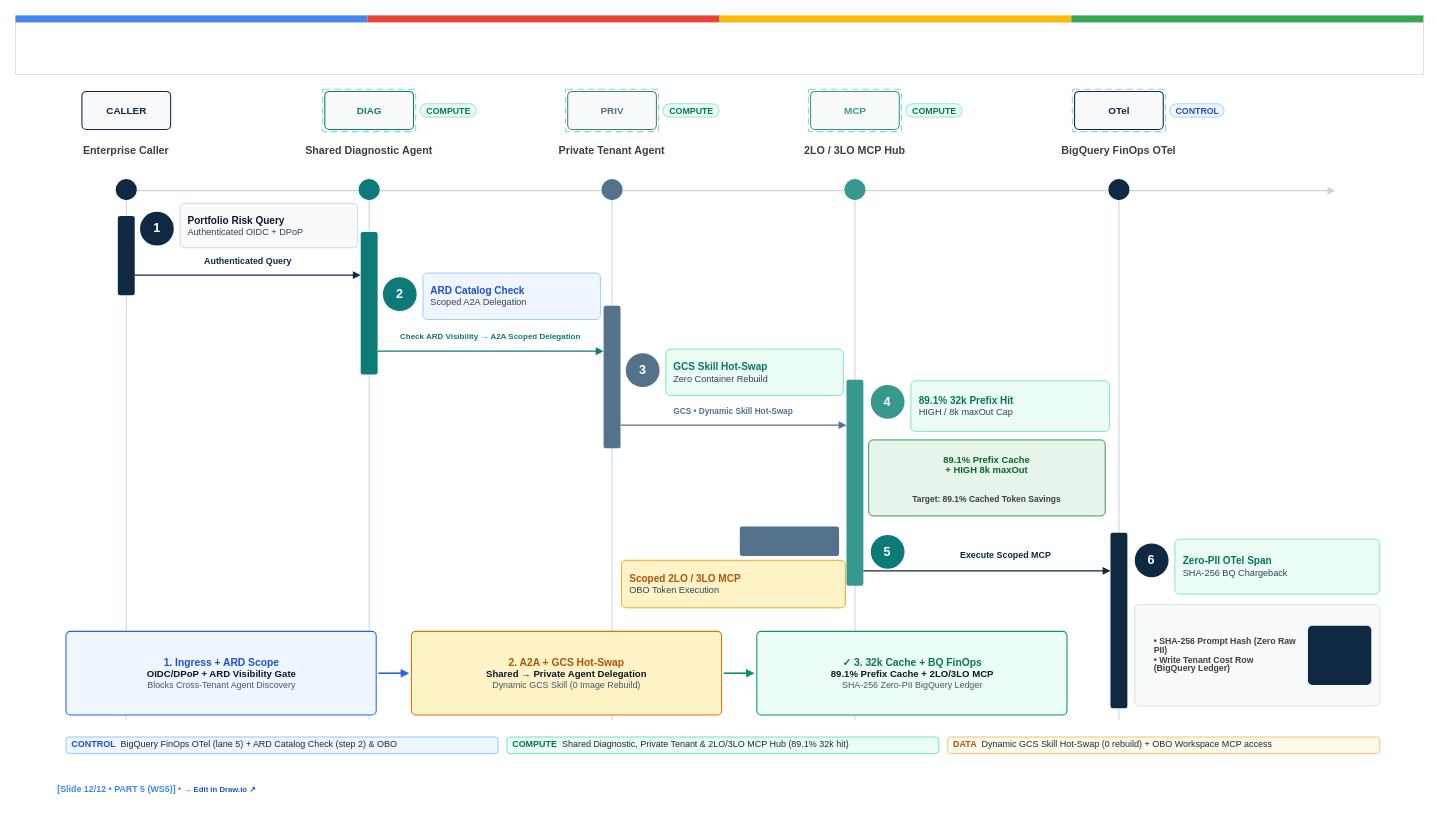
This 1439x816 diagram has some shape labels left out. Each missing label, with the centre of its shape:
"2LO / 3LO" belongs at (789,541).
"FinOps BQ" belongs at (1339,654).
"WS5 - PART 5 - Shared + Private Agents, Dynamic GCS Skills & FinOps OTel" belongs at (719,48).
